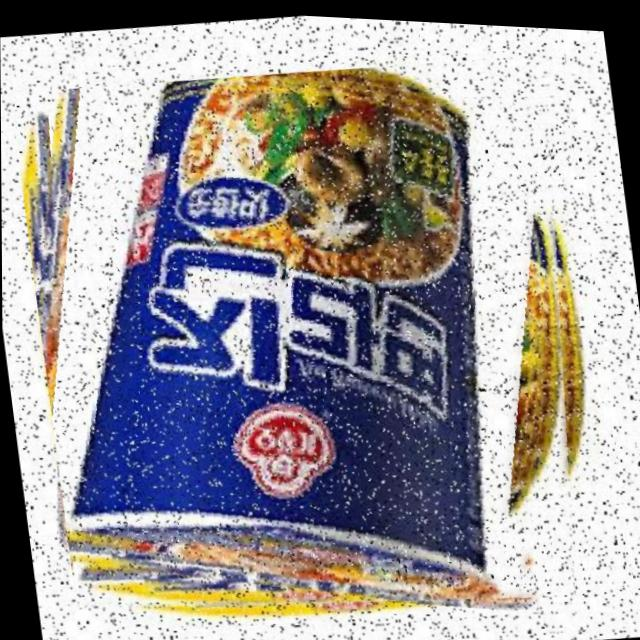Miscellaneous: (9, 27, 614, 640)
